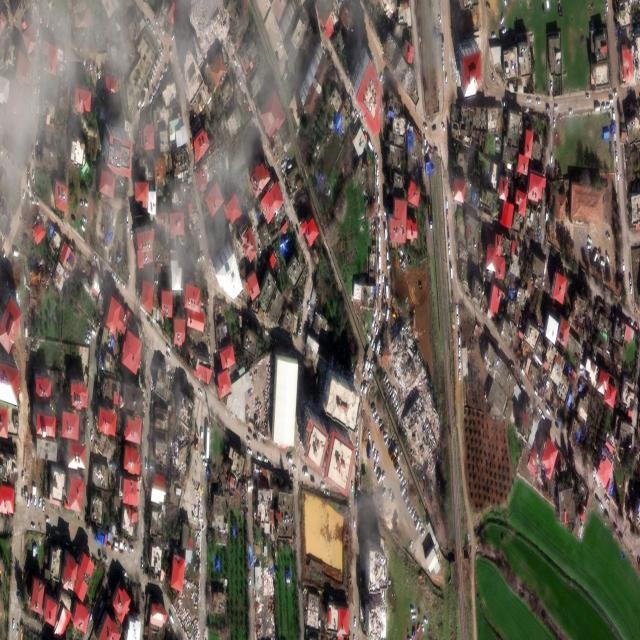Rubble: (395, 382, 442, 476), (384, 316, 427, 389), (185, 2, 221, 52)
